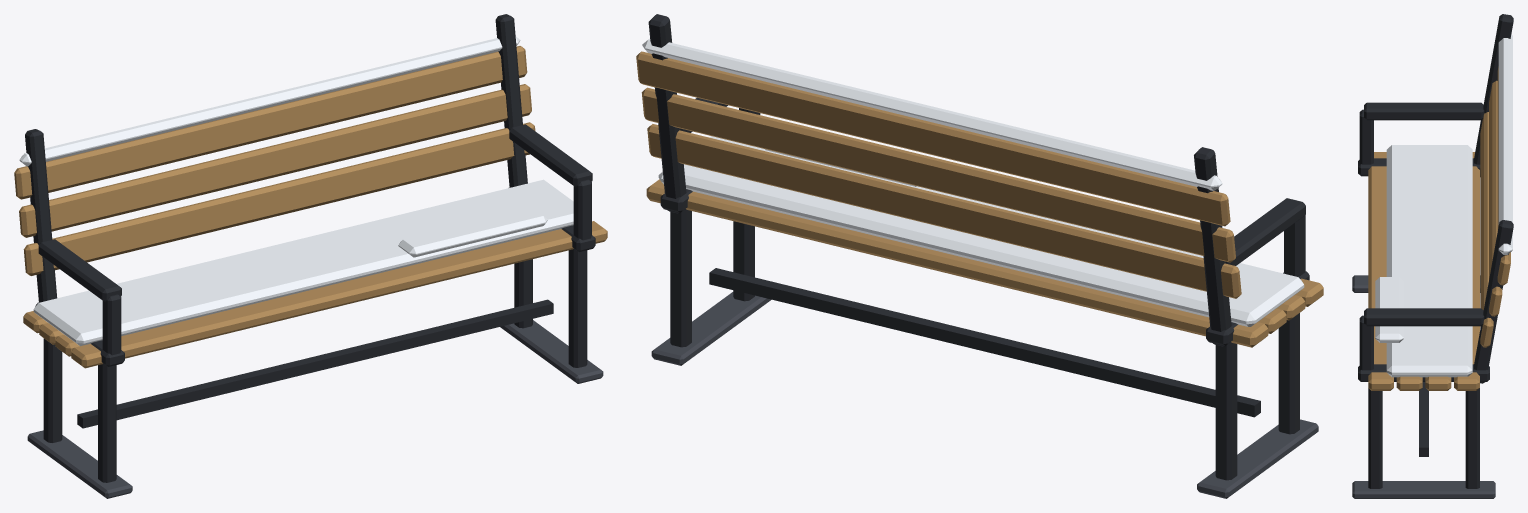
Rendered from bench.glb.
The picture shows the model from 3 angles, left to right: view 1: azimuth 30°, elevation 25°; view 2: azimuth 150°, elevation 25°; view 3: azimuth 270°, elevation 25°; orthographic projection. The views are drawn at different scales.
Parts seen in each view (by area): view 1: bench; view 2: bench; view 3: bench.
Part boxes in pixels (x1=…): bench: x1=14, y1=14, x2=607, y2=498; bench: x1=636, y1=14, x2=1323, y2=498; bench: x1=1352, y1=14, x2=1513, y2=498.
Size of the model in its own units: 1.9 by 1.05 by 0.5625.
